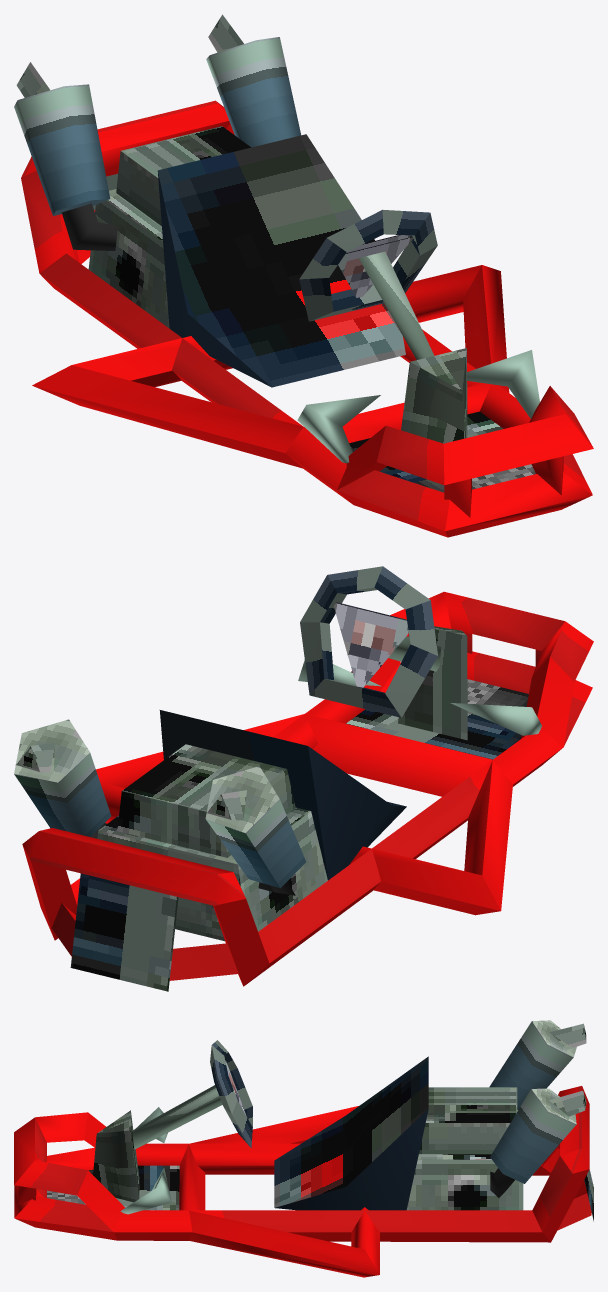
Rendered from body_pipe_lod.dae.
3 views of the same model, one above another, from view 1: azimuth 30°, elevation 25°; view 2: azimuth 150°, elevation 25°; view 3: azimuth 270°, elevation 25° (orthographic). The views are drawn at different scales.
Visible parts, largest first — view 1: _0_0_node; view 2: _0_0_node; view 3: _0_0_node.
Part boxes in pixels (x1,y1,x2,y2): _0_0_node: (14, 14, 593, 537); _0_0_node: (14, 566, 593, 991); _0_0_node: (14, 1020, 593, 1277).
Bounding box in the file's own units: 12.35 × 18.27 × 5.71.
